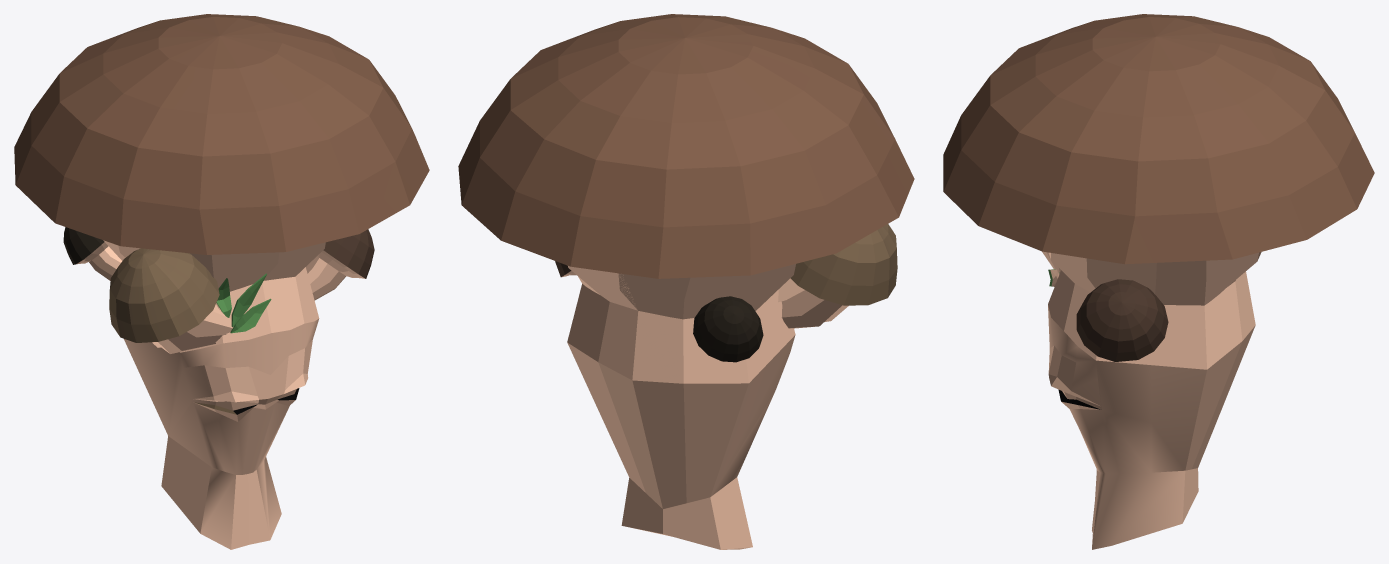
The model's file is Mushroom_head_02.fbx.
The picture shows the model from 3 angles, left to right: view 1: azimuth 30°, elevation 25°; view 2: azimuth 150°, elevation 25°; view 3: azimuth 270°, elevation 25°; orthographic projection. The views are drawn at different scales.
Visible parts, largest first — view 1: Mushroom_head_02; view 2: Mushroom_head_02; view 3: Mushroom_head_02.
Part boxes in pixels (x1=…): Mushroom_head_02: x1=14, y1=14, x2=429, y2=549; Mushroom_head_02: x1=458, y1=14, x2=914, y2=549; Mushroom_head_02: x1=943, y1=14, x2=1374, y2=549.
Size of the model in its own units: 55.11 by 71.22 by 55.24.
